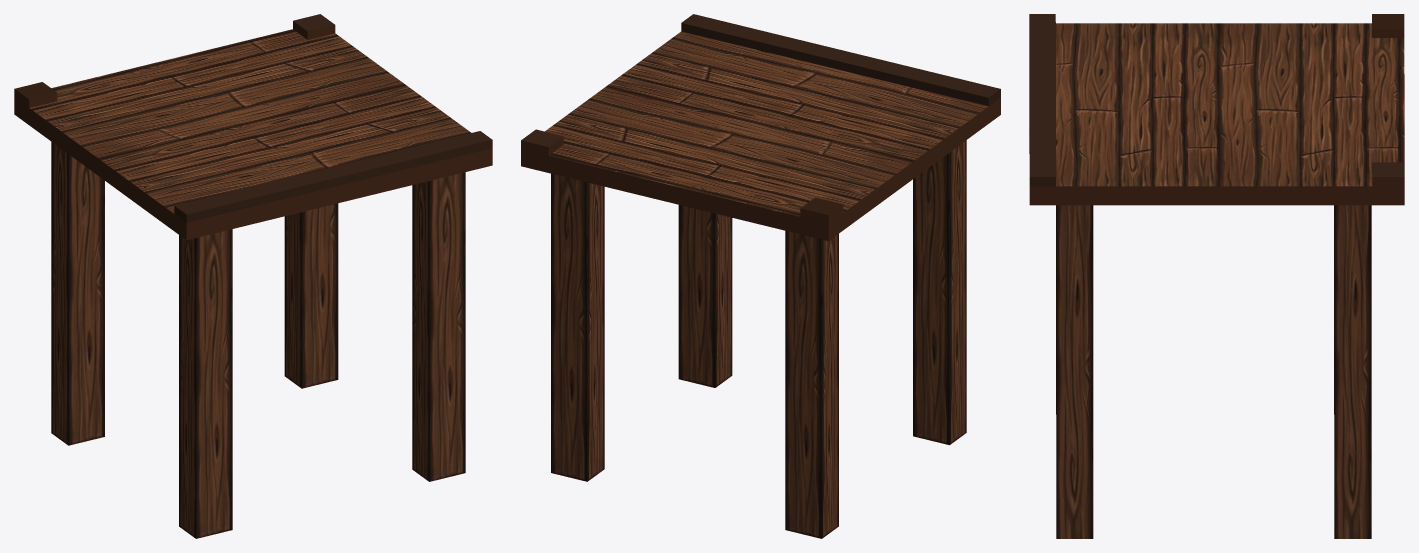
Rendered from Harbor Floor 3.fbx.
3 views of the same model, side by side, from view 1: azimuth 30°, elevation 25°; view 2: azimuth 150°, elevation 25°; view 3: azimuth 270°, elevation 25° (orthographic). The views are drawn at different scales.
Parts seen in each view (by area): view 1: pasted__pasted__polySurface5; view 2: pasted__pasted__polySurface5; view 3: pasted__pasted__polySurface5.
Boxes of the visible parts, x1,y1,x2,y2 form: pasted__pasted__polySurface5: [14, 14, 492, 538]; pasted__pasted__polySurface5: [521, 14, 1000, 538]; pasted__pasted__polySurface5: [1029, 14, 1404, 538].
Size of the model in its own units: 6.07 by 6.41 by 5.9.
Materials: 1 (1 with a texture image).
